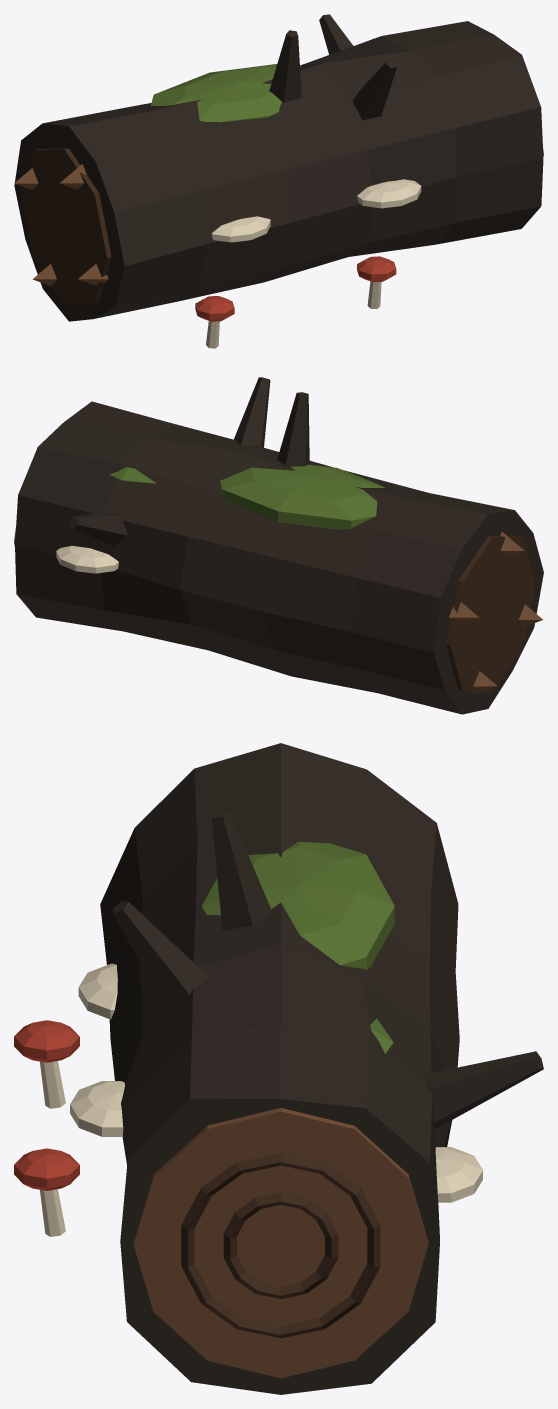
File: fallen_log.glb
3 views of the same model, one above another, from view 1: azimuth 30°, elevation 25°; view 2: azimuth 150°, elevation 25°; view 3: azimuth 270°, elevation 25° (orthographic). The views are drawn at different scales.
Visible parts, largest first — view 1: FallenLog; view 2: FallenLog; view 3: FallenLog.
Part boxes in pixels (x1,y1,x2,y2): FallenLog: (14, 14, 543, 348); FallenLog: (14, 377, 543, 714); FallenLog: (14, 743, 543, 1394).
Size of the model in its own units: 0.99 by 0.5307 by 0.6115.
